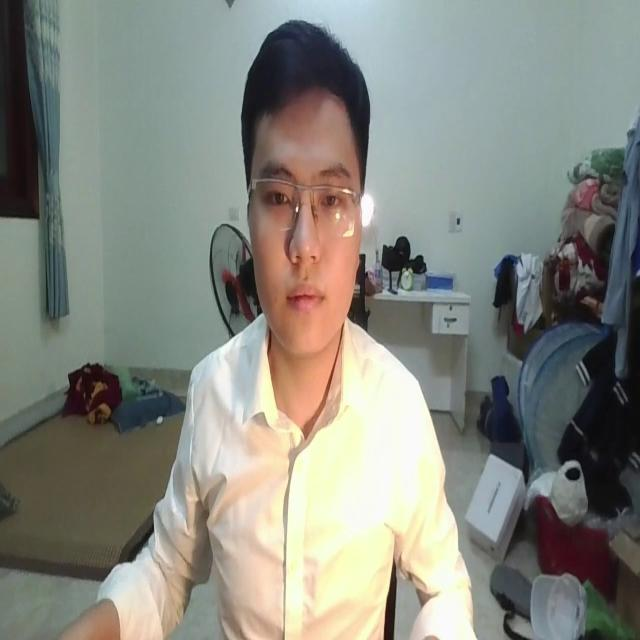student: (53, 19, 468, 640)
